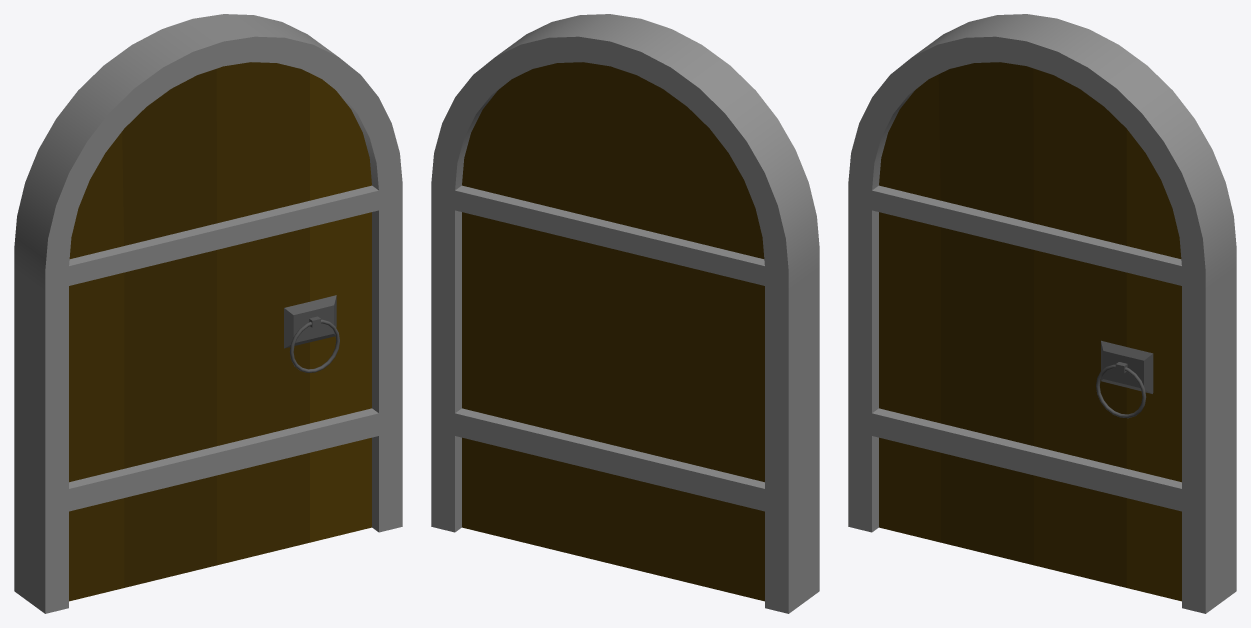
File: Door.fbx
3 renders of one model, left to right at view 1: azimuth 30°, elevation 25°; view 2: azimuth 150°, elevation 25°; view 3: azimuth 330°, elevation 25°, orthographic.
Parts seen in each view (by area): view 1: Door, pTorus1; view 2: Door; view 3: Door, pTorus1.
Boxes of the visible parts, x1,y1,x2,y2 form: Door: (14, 14, 402, 613); pTorus1: (290, 319, 339, 372); Door: (431, 14, 819, 613); Door: (848, 14, 1236, 613); pTorus1: (1096, 364, 1146, 418).
Bounding box in the file's own units: 150 × 212 × 22.59.
